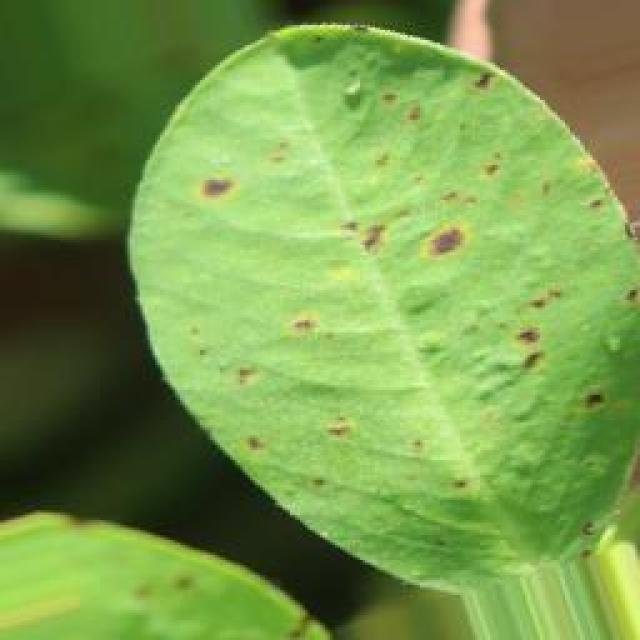Sigatoka: (270, 293, 385, 358), (399, 187, 464, 285), (349, 70, 440, 136), (192, 154, 272, 223), (568, 175, 640, 248), (328, 195, 397, 266), (499, 310, 555, 390), (335, 133, 422, 184), (468, 53, 532, 116), (563, 369, 619, 432), (463, 137, 513, 204), (228, 352, 288, 407), (520, 270, 573, 332), (439, 463, 498, 512), (516, 156, 564, 211), (316, 405, 372, 447), (294, 450, 338, 502), (242, 423, 287, 468), (618, 261, 640, 330)
